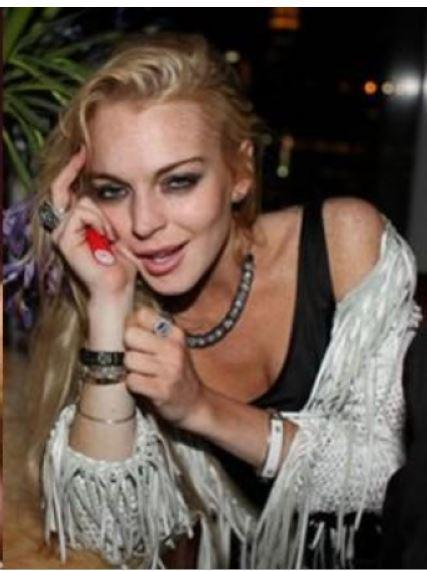Drunk: (89, 105, 226, 287)
